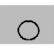no answer: (13, 16, 42, 44)
